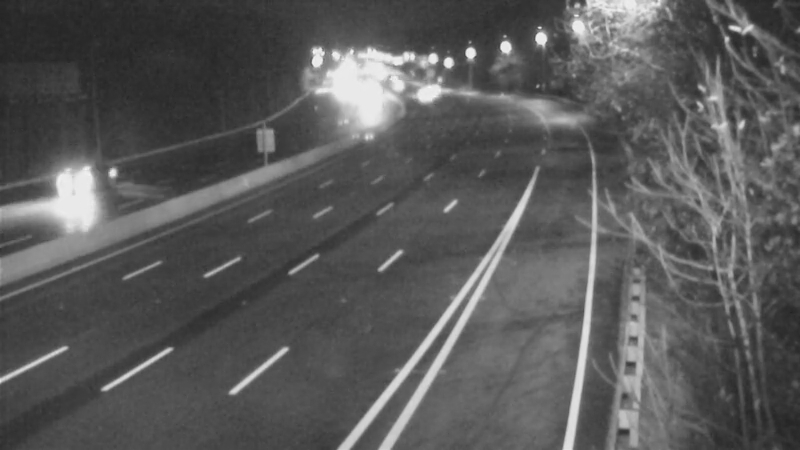vehicle: (33, 148, 113, 228), (400, 68, 450, 118)
